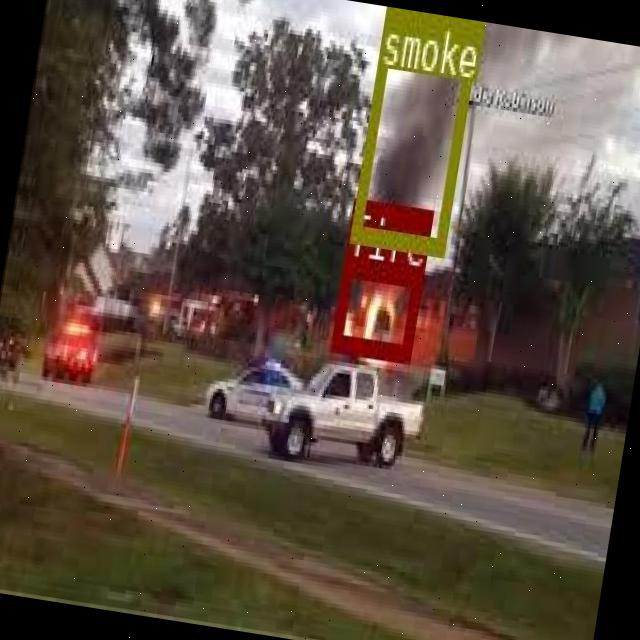fire: (328, 256, 422, 360)
smoke: (349, 7, 479, 255)
